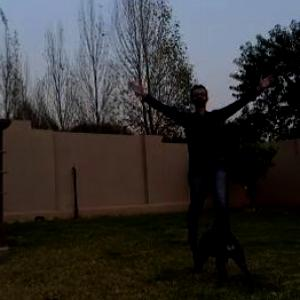takeoff: (124, 48, 287, 251)
